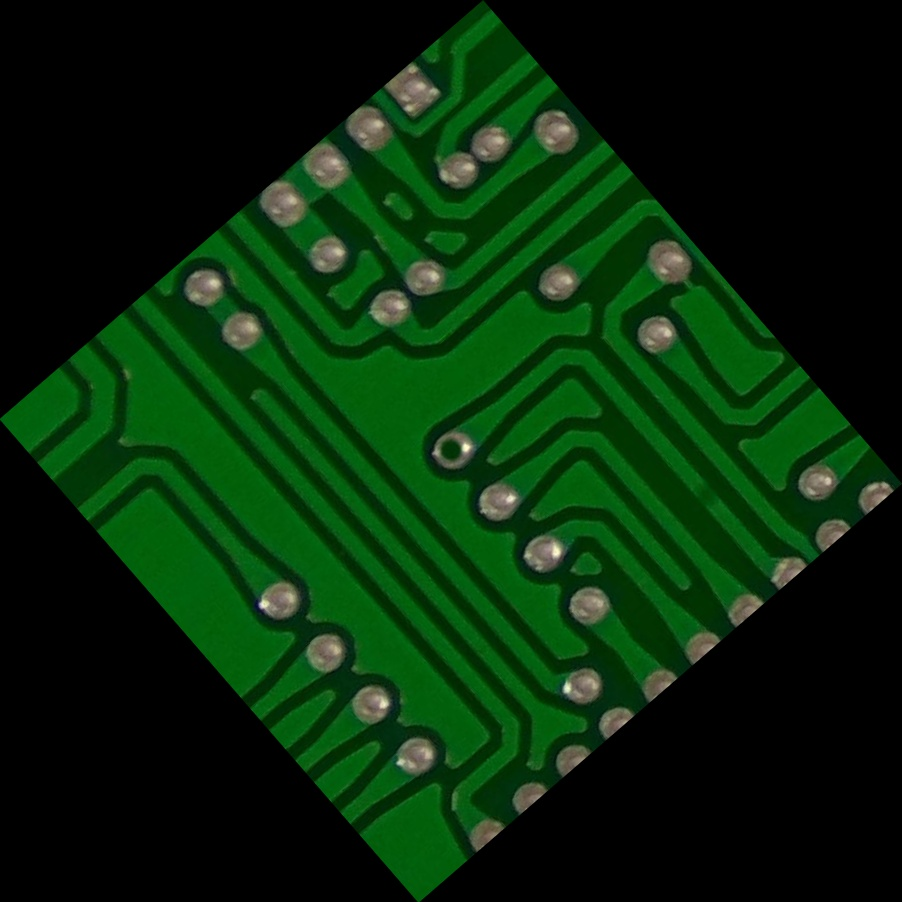missing_hole: (413, 414, 489, 489)
